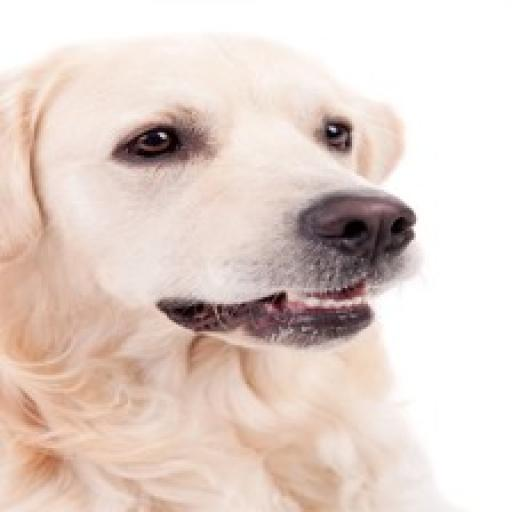dog: (0, 39, 432, 512)
